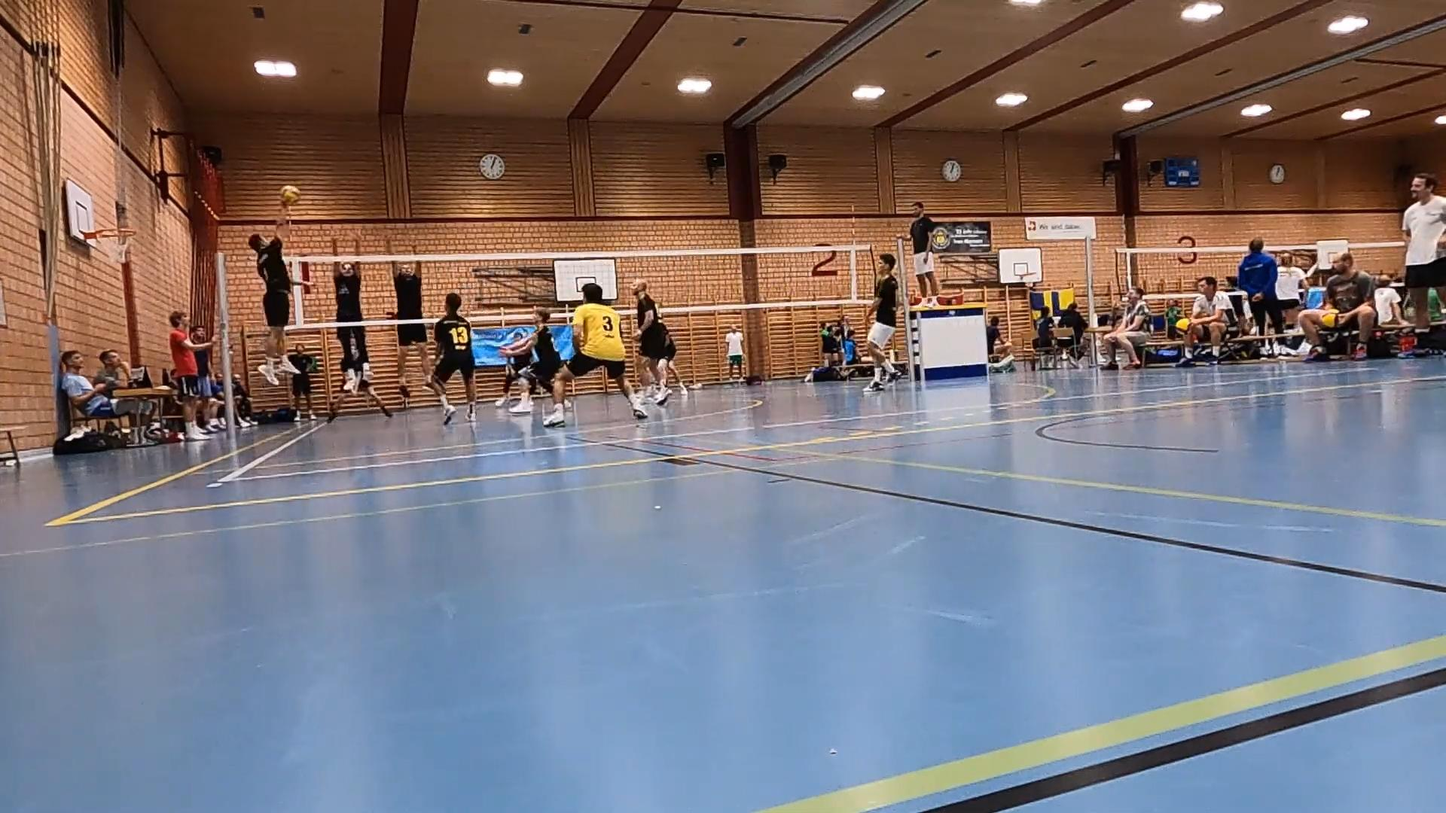Attack: (249, 213, 296, 377)
Block: (378, 235, 442, 404), (319, 232, 379, 393)
Player: (544, 283, 647, 426), (503, 307, 561, 413), (428, 293, 474, 425), (633, 280, 675, 405), (865, 254, 899, 391), (326, 377, 391, 423), (495, 333, 531, 408), (655, 333, 688, 403)
ball: (284, 185, 304, 200)
